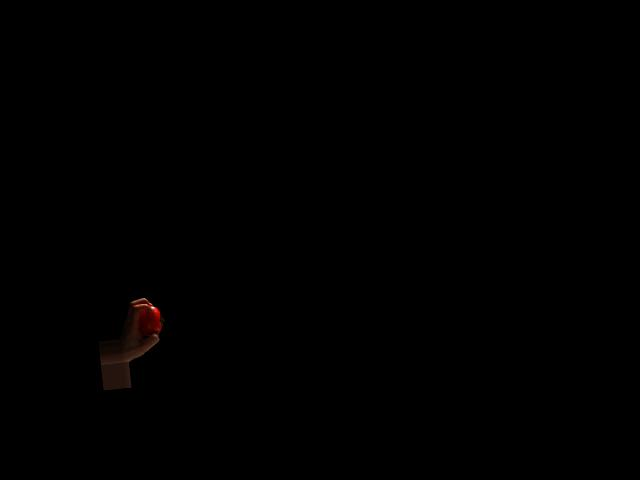tomato: (138, 305, 165, 337)
